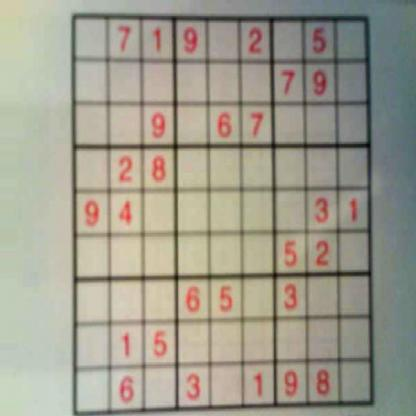sudoku: (67, 8, 379, 416)
